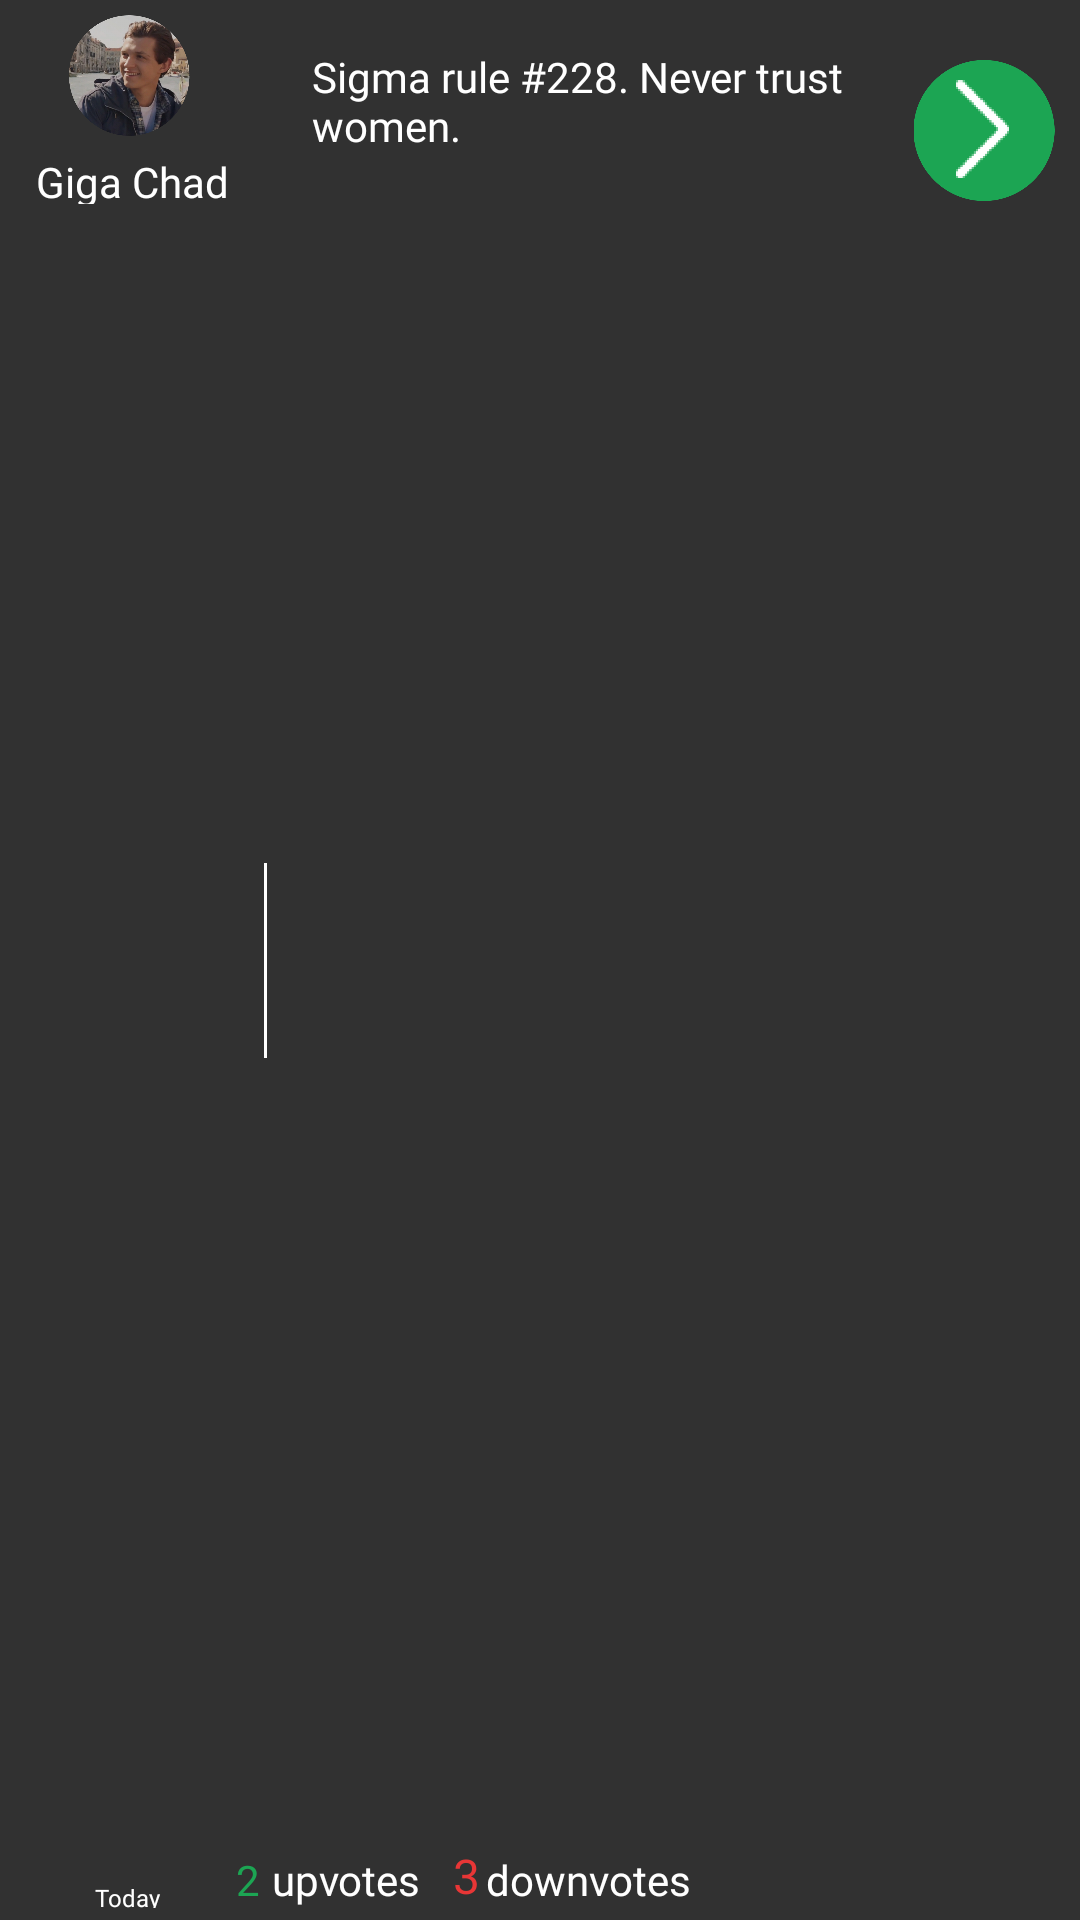

Where icons sit on this 1080 × 1920 app screen, as [left=x1, top=y1, right=x2, bottom=y2]:
pointer right: [left=914, top=60, right=1055, bottom=201]
